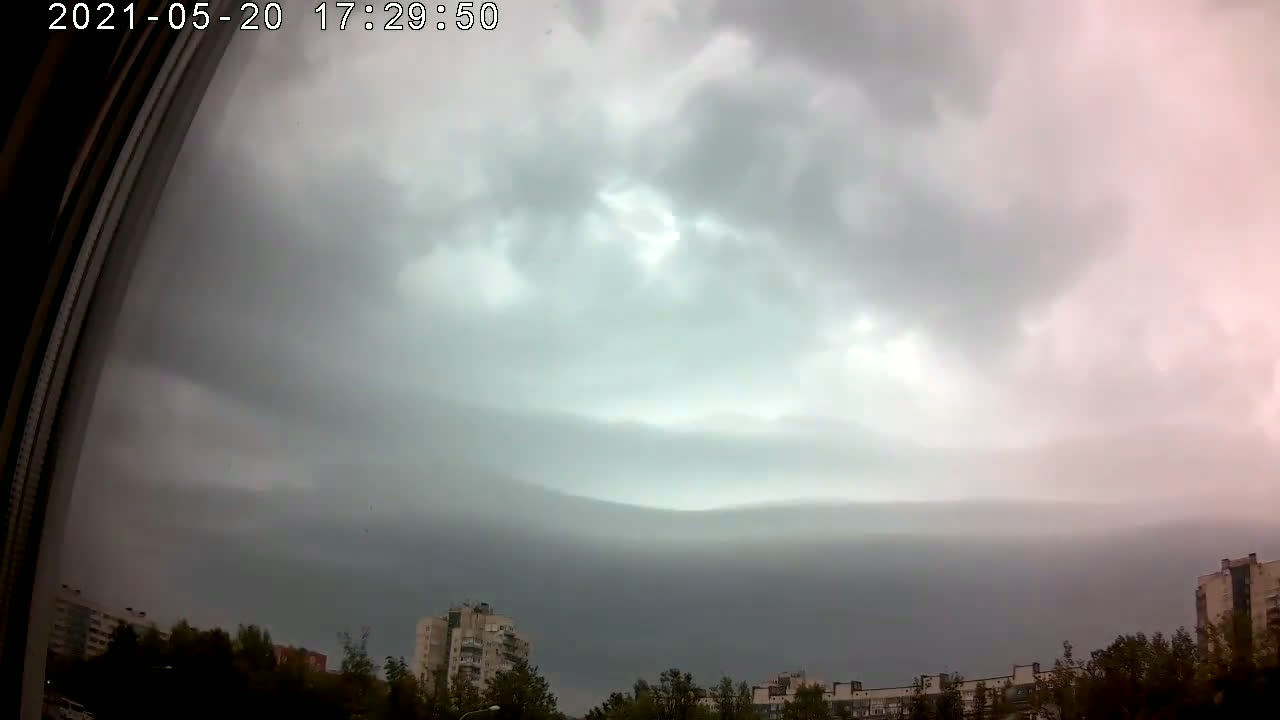mesocyclone: (122, 330, 1278, 712)
striations: (114, 308, 1279, 533)
